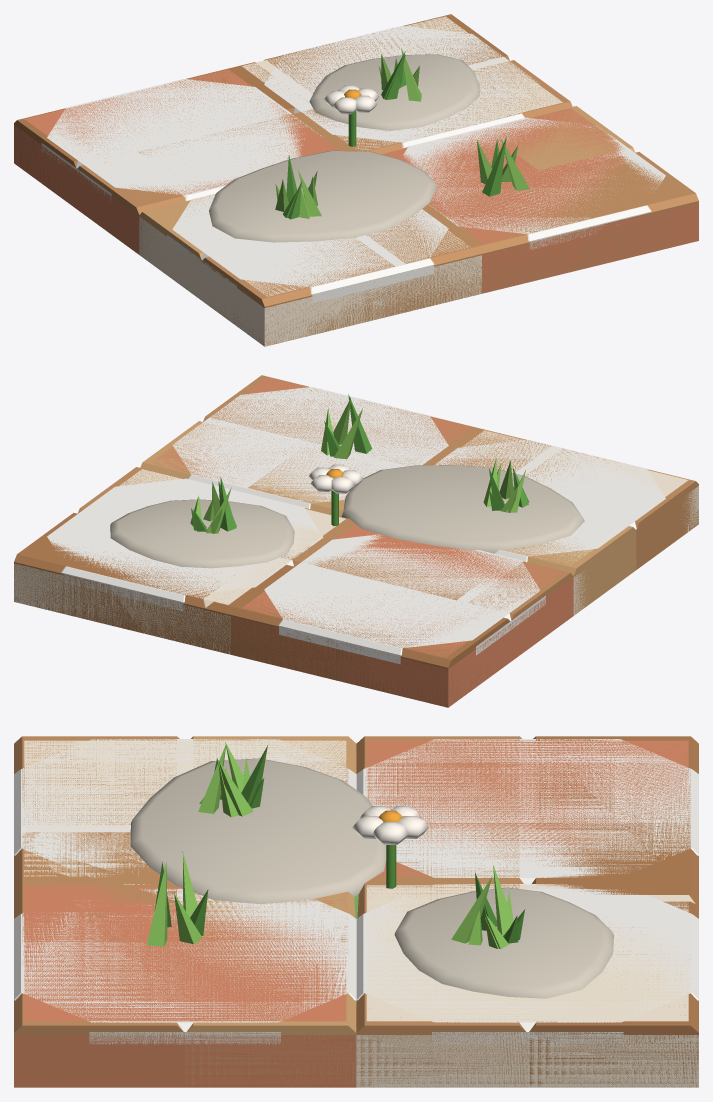
Rendered from casa-pisos.glb.
3 views of the same model, one above another, from view 1: azimuth 30°, elevation 25°; view 2: azimuth 150°, elevation 25°; view 3: azimuth 270°, elevation 25° (orthographic). The views are drawn at different scales.
Visible parts, largest first — view 1: piso-azulejo, piso-ladrilho, piso-tabua, piso-pedra, piso-grama; view 2: piso-azulejo, piso-tabua, piso-ladrilho, piso-pedra, piso-grama; view 3: piso-ladrilho, piso-azulejo, piso-tabua, piso-pedra, piso-grama.
Part boxes in pixels (box(x1,y1,x2,y2)): piso-azulejo: box(41, 26, 665, 303); piso-ladrilho: box(14, 16, 698, 346); piso-tabua: box(14, 14, 698, 346); piso-pedra: box(209, 47, 479, 242); piso-grama: box(275, 53, 529, 219); piso-azulejo: box(47, 387, 665, 664); piso-tabua: box(14, 375, 698, 707); piso-ladrilho: box(14, 377, 698, 707); piso-pedra: box(110, 458, 584, 568); piso-grama: box(191, 394, 529, 533); piso-ladrilho: box(14, 740, 698, 1087); piso-azulejo: box(14, 739, 698, 1044); piso-tabua: box(14, 736, 698, 1087); piso-pedra: box(130, 742, 613, 998); piso-grama: box(146, 744, 518, 948).
Bounding box in the file's own units: 1 × 0.2207 × 1.
